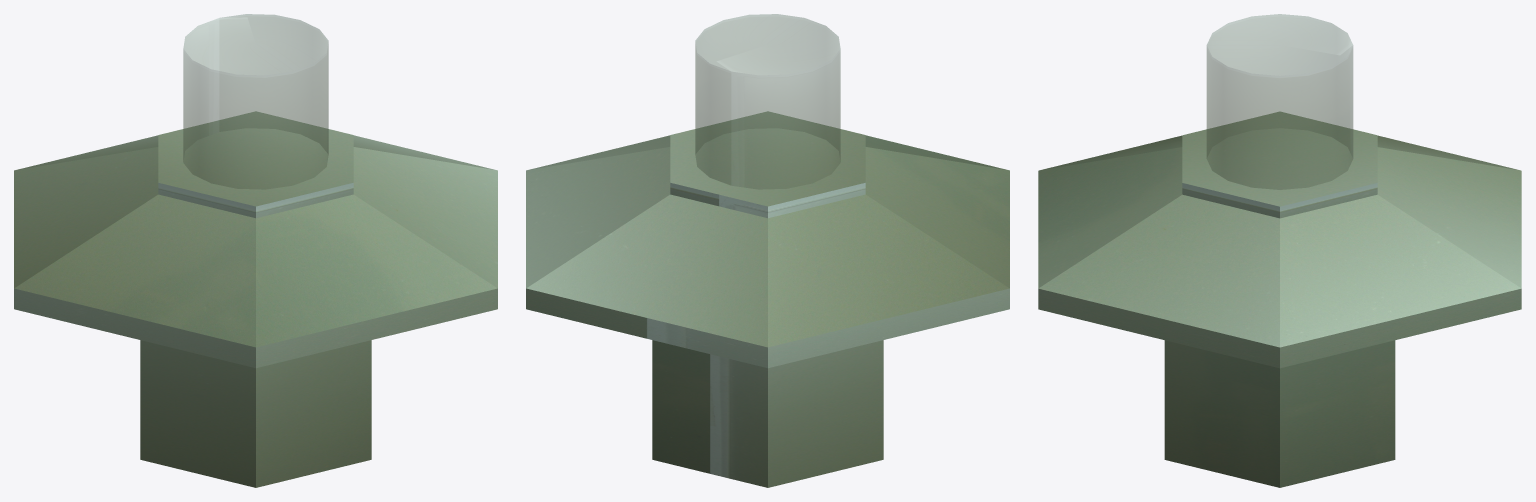
File: Consola.obj
The picture shows the model from 3 angles, left to right: view 1: azimuth 30°, elevation 25°; view 2: azimuth 150°, elevation 25°; view 3: azimuth 270°, elevation 25°; orthographic projection.
Visible parts, largest first — view 1: Cylinder001, Cylinder002; view 2: Cylinder001, Cylinder002; view 3: Cylinder001, Cylinder002.
Part boxes in pixels (x1=…): Cylinder001: x1=14, y1=111, x2=497, y2=487; Cylinder002: x1=183, y1=14, x2=328, y2=189; Cylinder001: x1=526, y1=111, x2=1009, y2=487; Cylinder002: x1=695, y1=14, x2=840, y2=189; Cylinder001: x1=1038, y1=111, x2=1521, y2=487; Cylinder002: x1=1206, y1=14, x2=1353, y2=189.
Size of the model in its own units: 55.83 by 42.67 by 48.35.
Materials: 2 (2 with a texture image).
